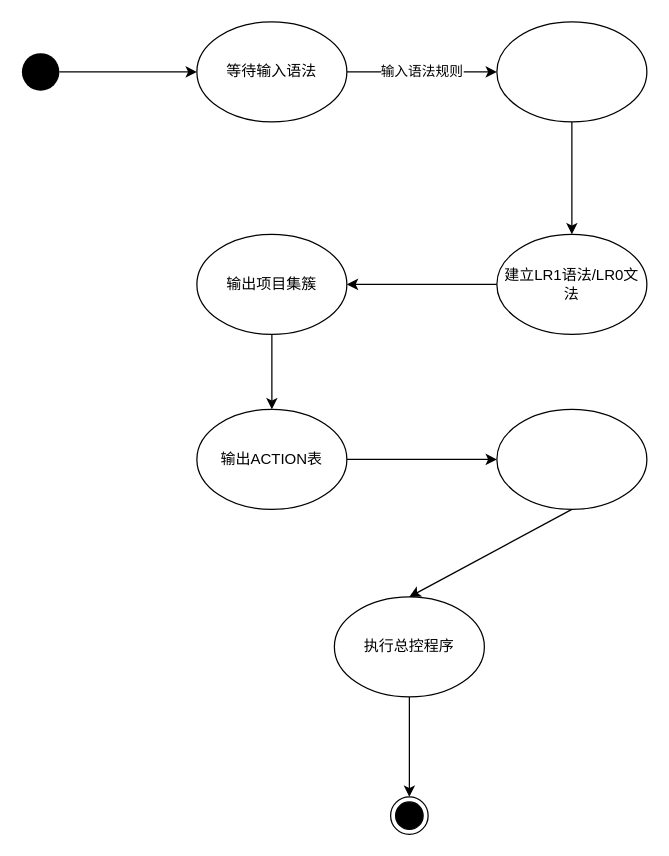
This 669x856 diagram has some shape labels left out. The centre of each missing label's shape, as x and y in pixels:
"分析语法" goes at point 571,71.
"输出GOTO表" goes at point 571,458.
